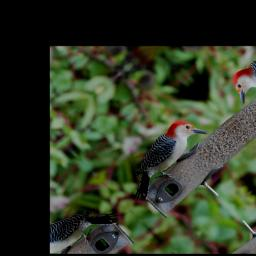Woodpecker: (108, 111, 220, 207)
